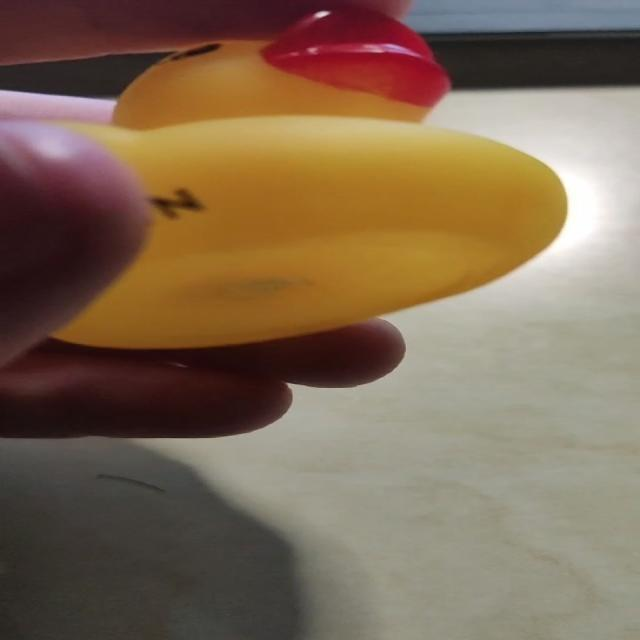rubber-duck: (0, 0, 565, 346)
